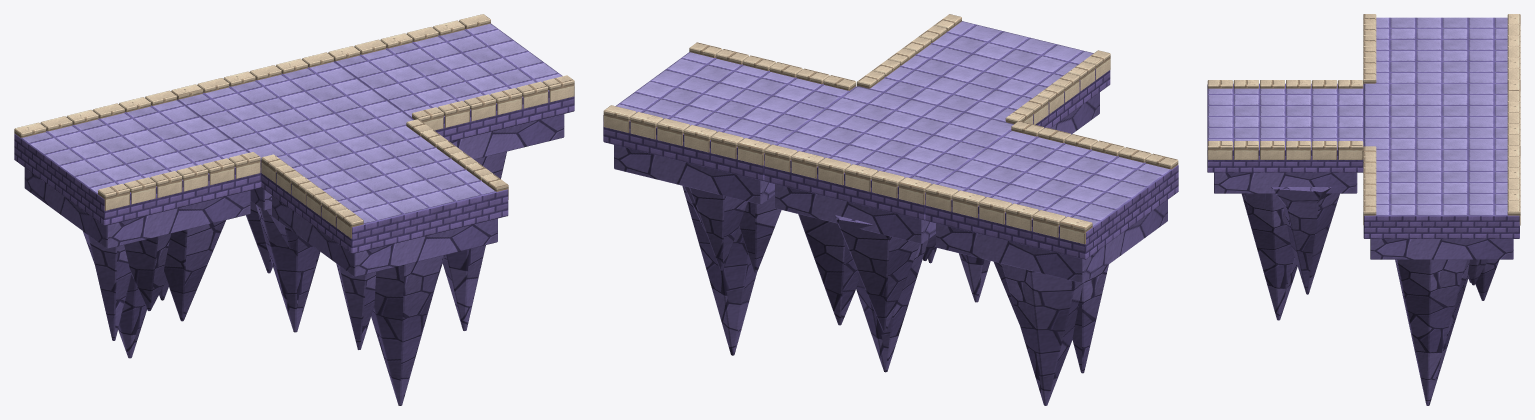
File: Camino_T.fbx
3 renders of one model, left to right at view 1: azimuth 30°, elevation 25°; view 2: azimuth 150°, elevation 25°; view 3: azimuth 270°, elevation 25°, orthographic. The views are drawn at different scales.
Parts seen in each view (by area): view 1: Mod_Camino_T; view 2: Mod_Camino_T; view 3: Mod_Camino_T.
Part boxes in pixels (box(x1,y1,x2,y2)): Mod_Camino_T: box(14, 14, 574, 405); Mod_Camino_T: box(603, 14, 1178, 405); Mod_Camino_T: box(1207, 14, 1520, 405).
Bounding box in the file's own units: 18 × 9.5 × 12.02.
